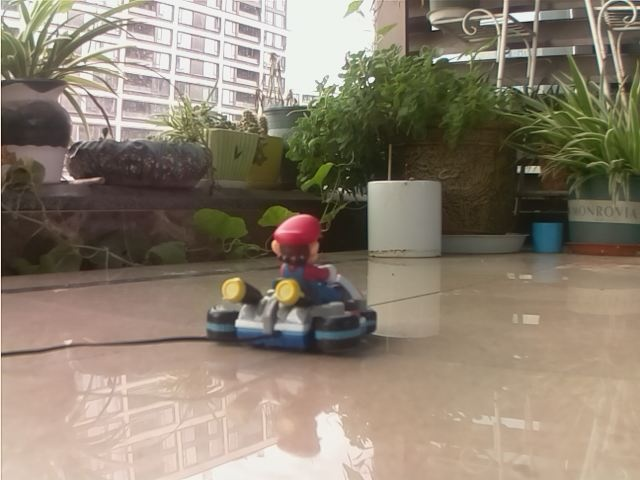mario: (194, 208, 385, 357)
